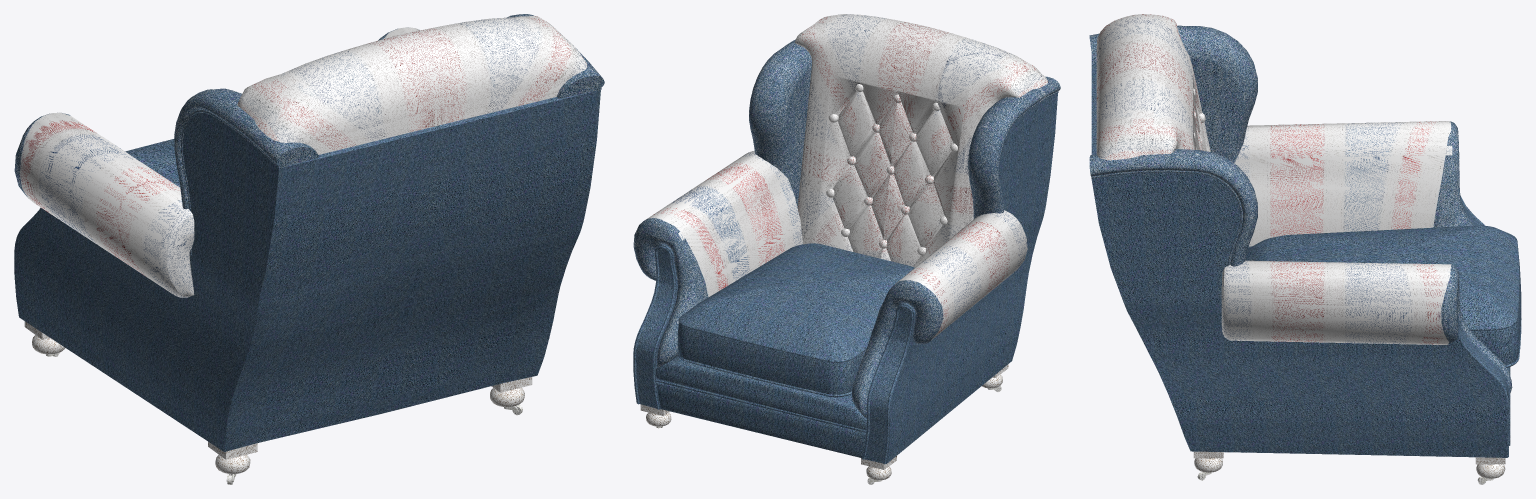
3 views of the same model, side by side, from view 1: azimuth 30°, elevation 25°; view 2: azimuth 150°, elevation 25°; view 3: azimuth 270°, elevation 25° (orthographic). The views are drawn at different scales.
Parts seen in each view (by area): view 1: mesh32_mesh32-geometry, mesh11_mesh11-geometry, mesh34_mesh34-geometry, mesh49_mesh49-geometry, mesh28_mesh28-geometry, mesh36_mesh36-geometry, mesh1_mesh1-geometry, mesh15_mesh15-geometry, mesh51_mesh51-geometry; view 2: mesh1_mesh1-geometry, mesh32_mesh32-geometry, mesh28_mesh28-geometry, mesh49_mesh49-geometry, mesh13_mesh13-geometry, mesh34_mesh34-geometry, mesh15_mesh15-geometry, mesh9_mesh9-geometry, mesh7_mesh7-geometry, mesh36_mesh36-geometry, mesh11_mesh11-geometry, mesh51_mesh51-geometry; view 3: mesh11_mesh11-geometry, mesh34_mesh34-geometry, mesh13_mesh13-geometry, mesh1_mesh1-geometry, mesh28_mesh28-geometry, mesh36_mesh36-geometry, mesh15_mesh15-geometry, mesh49_mesh49-geometry, mesh30_mesh30-geometry, mesh32_mesh32-geometry, mesh31_mesh31-geometry.
Part boxes in pixels (x1,y1,x2,y2): mesh32_mesh32-geometry: (14,112,439,451); mesh11_mesh11-geometry: (381,90,600,413); mesh34_mesh34-geometry: (14,112,194,297); mesh49_mesh49-geometry: (237,34,436,154); mesh28_mesh28-geometry: (400,16,587,125); mesh36_mesh36-geometry: (174,88,318,255); mesh1_mesh1-geometry: (125,139,180,187); mesh15_mesh15-geometry: (507,14,604,98); mesh51_mesh51-geometry: (32,335,250,474); mesh1_mesh1-geometry: (677,243,914,397); mesh32_mesh32-geometry: (862,93,1057,464); mesh28_mesh28-geometry: (794,14,926,258); mesh49_mesh49-geometry: (881,26,1047,267); mesh13_mesh13-geometry: (633,150,802,367); mesh34_mesh34-geometry: (852,210,1027,418); mesh15_mesh15-geometry: (749,39,811,207); mesh9_mesh9-geometry: (656,379,866,457); mesh7_mesh7-geometry: (656,356,866,430); mesh36_mesh36-geometry: (968,76,1060,218); mesh11_mesh11-geometry: (633,189,793,409); mesh51_mesh51-geometry: (866,374,1002,480); mesh11_mesh11-geometry: (1091,112,1510,457); mesh34_mesh34-geometry: (1234,121,1473,248); mesh13_mesh13-geometry: (1221,260,1512,393); mesh1_mesh1-geometry: (1245,225,1521,367); mesh28_mesh28-geometry: (1096,54,1202,160); mesh36_mesh36-geometry: (1089,25,1257,162); mesh15_mesh15-geometry: (1089,149,1257,266); mesh49_mesh49-geometry: (1096,14,1210,151); mesh30_mesh30-geometry: (1194,458,1505,478); mesh32_mesh32-geometry: (1091,54,1485,225); mesh31_mesh31-geometry: (1193,451,1505,464).
Size of the model in its own units: 0.5687 by 0.5624 by 0.6003.
Materials: 7 (4 with a texture image).
